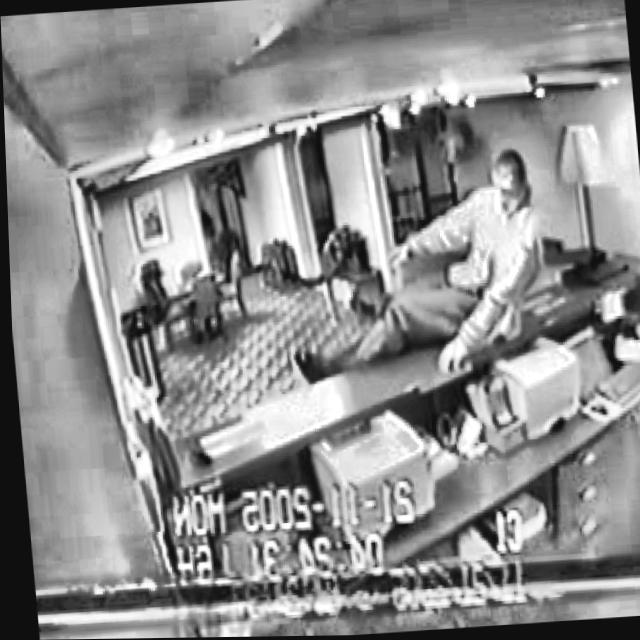burglary: (270, 141, 594, 545)
